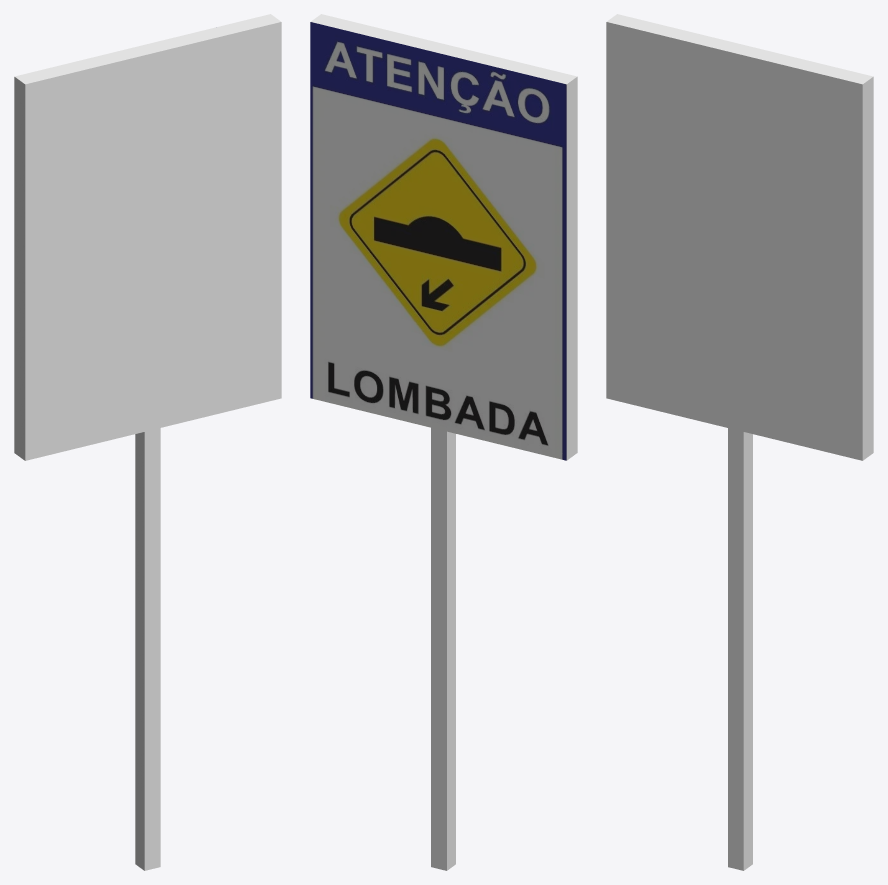
The model's file is placa-lombada.fbx.
3 views of the same model, side by side, from view 1: azimuth 30°, elevation 25°; view 2: azimuth 150°, elevation 25°; view 3: azimuth 330°, elevation 25° (orthographic).
Parts seen in each view (by area): view 1: Placa-Ciclista-11; view 2: Placa-Ciclista-11; view 3: Placa-Ciclista-11.
Part boxes in pixels (x1=…): Placa-Ciclista-11: x1=14, y1=14, x2=281, y2=870; Placa-Ciclista-11: x1=310, y1=14, x2=577, y2=870; Placa-Ciclista-11: x1=606, y1=14, x2=873, y2=870.
Size of the model in its own units: 82.19 by 250 by 5.98.
1 material, 1 textured.
